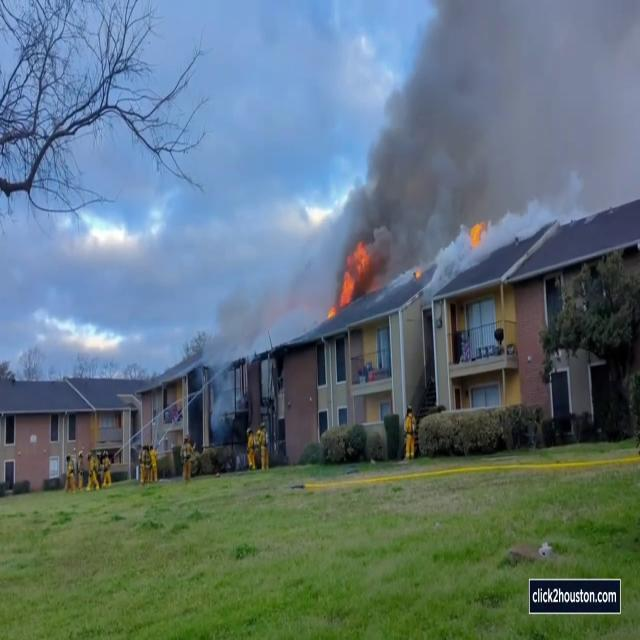Fire: (328, 235, 371, 316)
Smoke: (342, 0, 590, 266)
